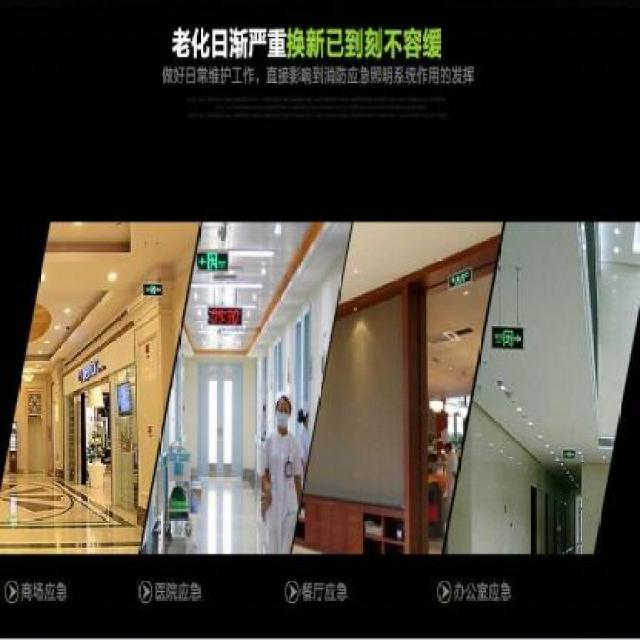exit_sign: (492, 322, 526, 353), (445, 266, 473, 287)
